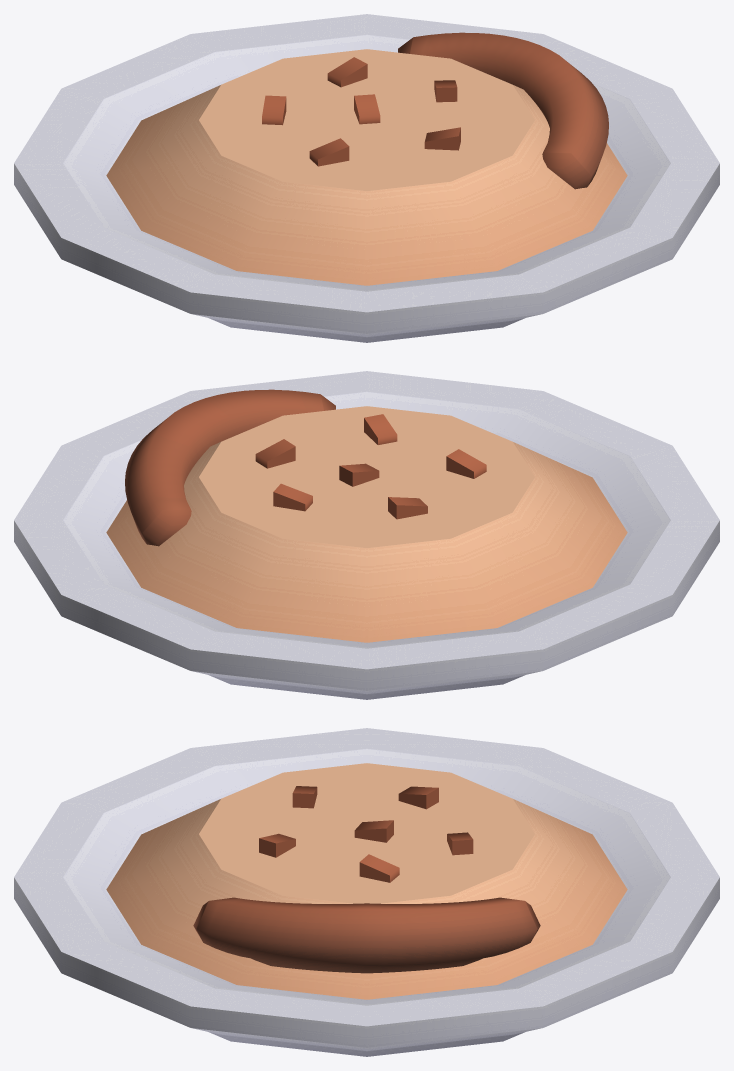
Rendered from plate-sauerkraut.glb.
3 views of the same model, one above another, from view 1: azimuth 30°, elevation 25°; view 2: azimuth 150°, elevation 25°; view 3: azimuth 270°, elevation 25° (orthographic).
Parts seen in each view (by area): view 1: plate-sauerkraut; view 2: plate-sauerkraut; view 3: plate-sauerkraut.
Boxes of the visible parts, left/top/right/bottom form: plate-sauerkraut: left=14, top=14, right=719, bottom=342; plate-sauerkraut: left=14, top=371, right=719, bottom=699; plate-sauerkraut: left=14, top=728, right=719, bottom=1056.
Size of the model in its own units: 0.8918 by 0.1752 by 0.8918.
1 material, 1 textured.
